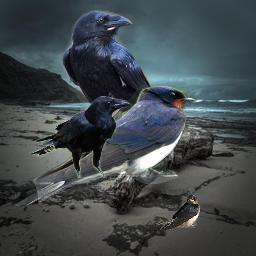Crow: (62, 10, 184, 142), (29, 96, 133, 178)
Swallow: (15, 85, 197, 212), (155, 194, 200, 230)
